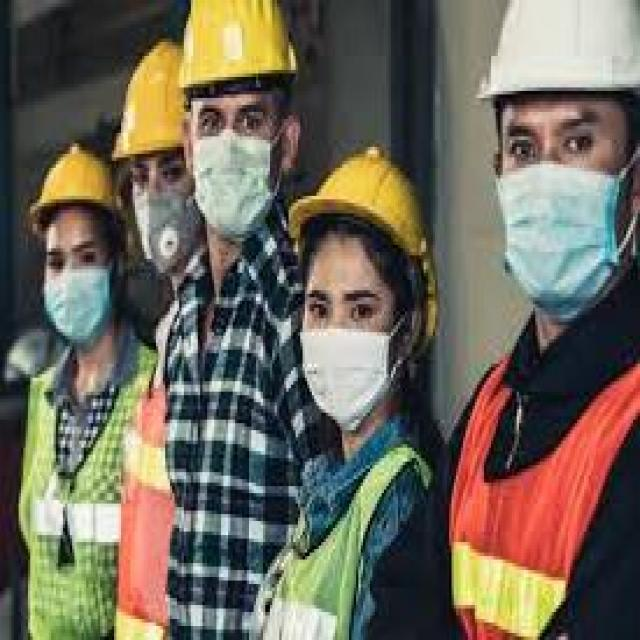Reflective-Jacket: (444, 311, 640, 639), (268, 423, 438, 640)
Safety-Helmet: (284, 133, 449, 301), (472, 0, 639, 115), (175, 0, 300, 98), (112, 35, 191, 168), (26, 136, 130, 235)
